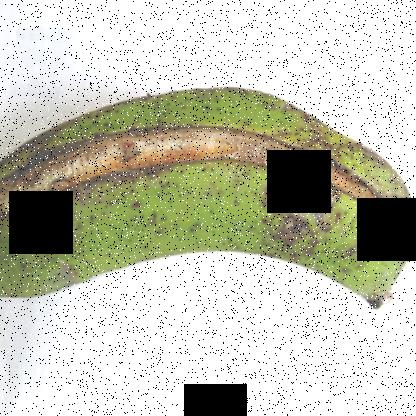rotten: (1, 100, 403, 280)
